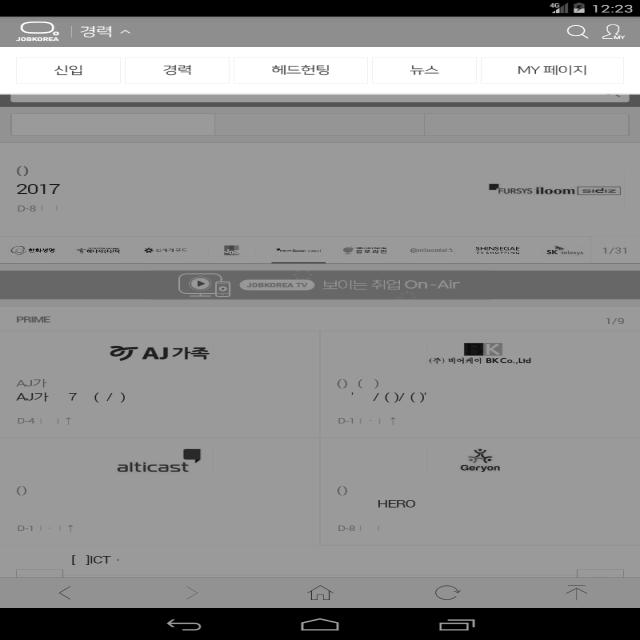ImageButton: (301, 582, 344, 608), (552, 582, 598, 606), (13, 20, 66, 40), (426, 580, 472, 602), (52, 583, 86, 603), (602, 17, 628, 43), (562, 20, 590, 42), (176, 583, 206, 603)
ImageView: (457, 338, 510, 357), (465, 445, 498, 463)
TextView: (111, 343, 226, 366), (510, 60, 592, 80), (111, 458, 193, 476), (268, 61, 347, 77), (499, 184, 572, 198), (82, 24, 134, 41), (15, 181, 64, 195), (49, 61, 90, 75)
